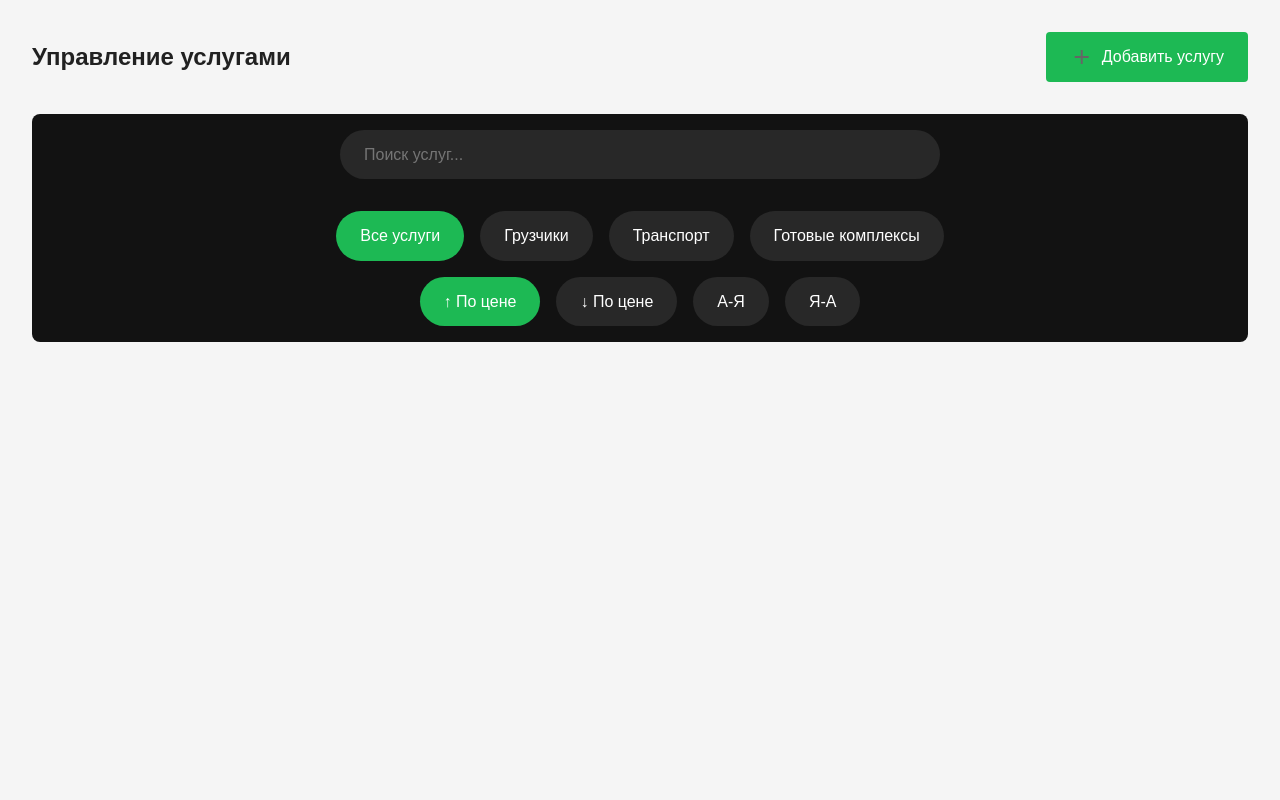
Scenario: ServicesManager › Modal Functionality › opens modal when add button is clicked
Click the button with class "add-btn".
click(1147, 57)  # box top-left (1046, 32), bottom-right (1248, 82)
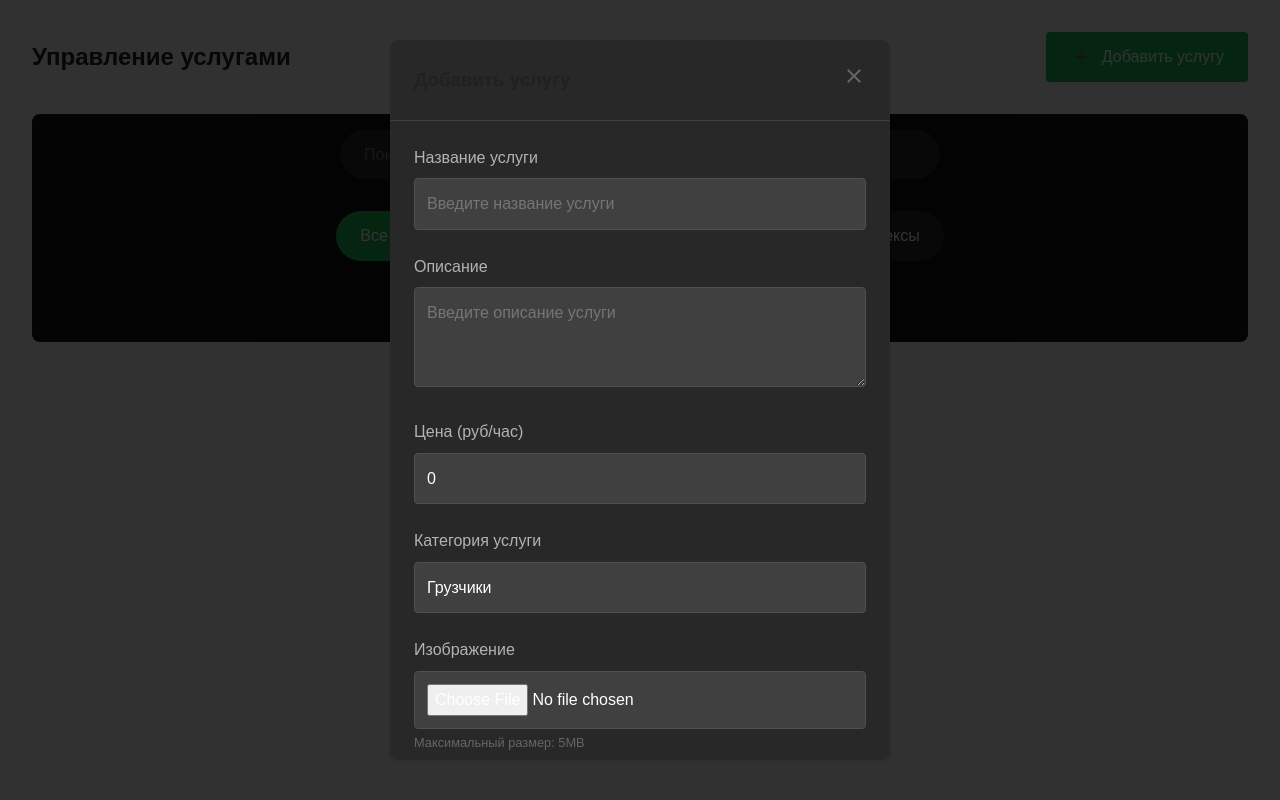
Result: the element with class "modal" is shown
